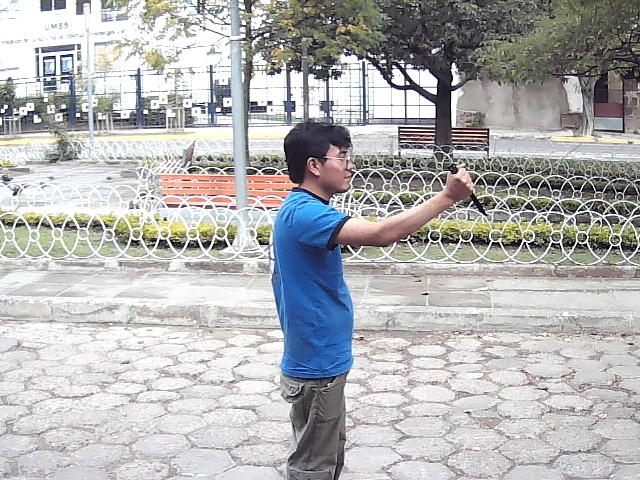cuchillo: (442, 161, 492, 222)
